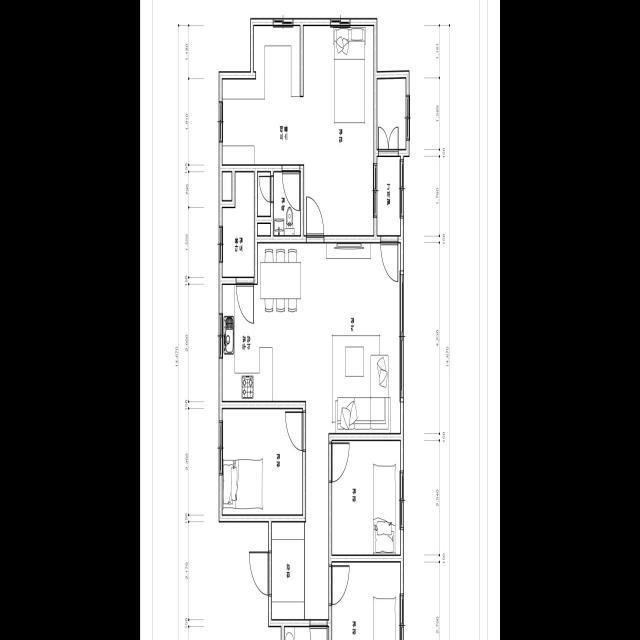background: (140, 0, 500, 640)
space_balconi: (377, 156, 400, 235)
space_bedroom: (303, 25, 374, 234), (222, 409, 303, 514), (332, 440, 400, 554), (332, 562, 400, 640)
space_dressroom: (222, 25, 300, 164)
space_front: (272, 522, 306, 619)
space_kitchen: (222, 243, 306, 401)
space_living_room: (305, 242, 400, 619)
space_multipurpose_space: (222, 172, 254, 276)
space_other: (377, 78, 406, 148), (222, 172, 232, 200), (257, 223, 270, 235)
space_toilet: (257, 172, 301, 234), (285, 627, 329, 640)
